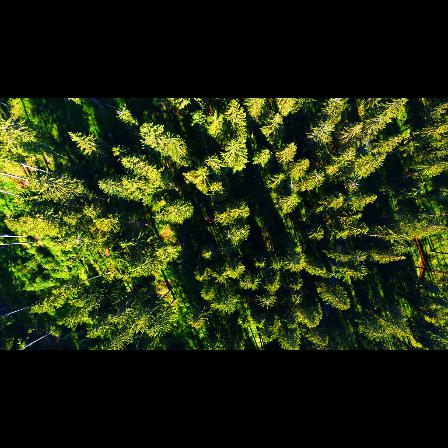Sick: (232, 223, 252, 242), (238, 273, 259, 290), (306, 169, 326, 186), (257, 293, 278, 309), (344, 177, 363, 191), (220, 228, 237, 242), (290, 292, 306, 305)
